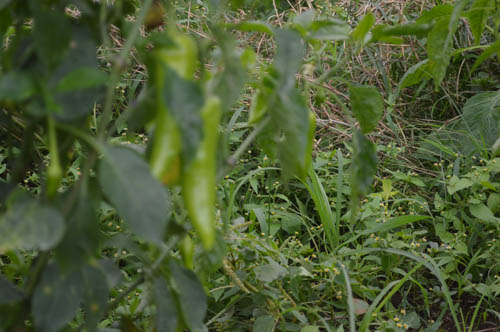ChiliPepper: (148, 37, 196, 198), (188, 102, 218, 251)
